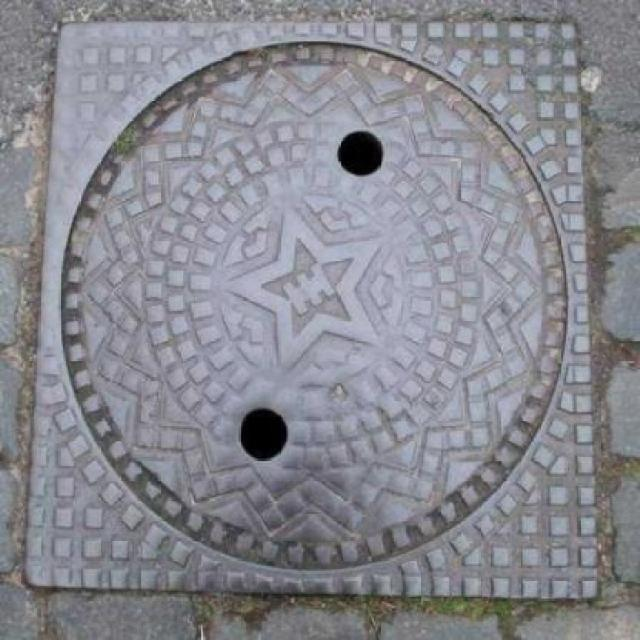Manhole: (16, 11, 604, 610)
